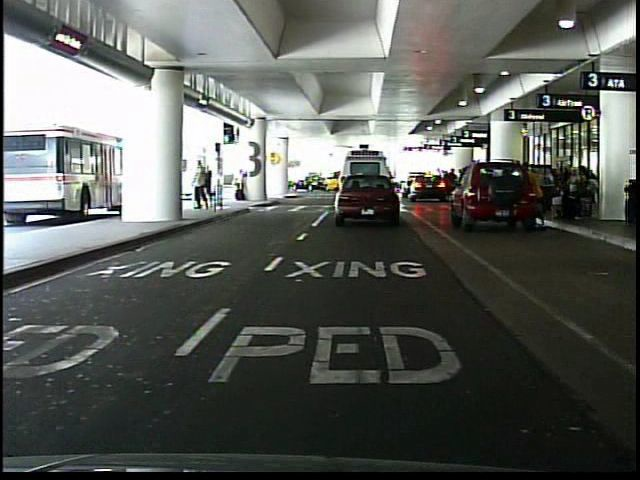person: (522, 159, 550, 224), (191, 158, 210, 216), (231, 165, 250, 203), (204, 163, 216, 212)
